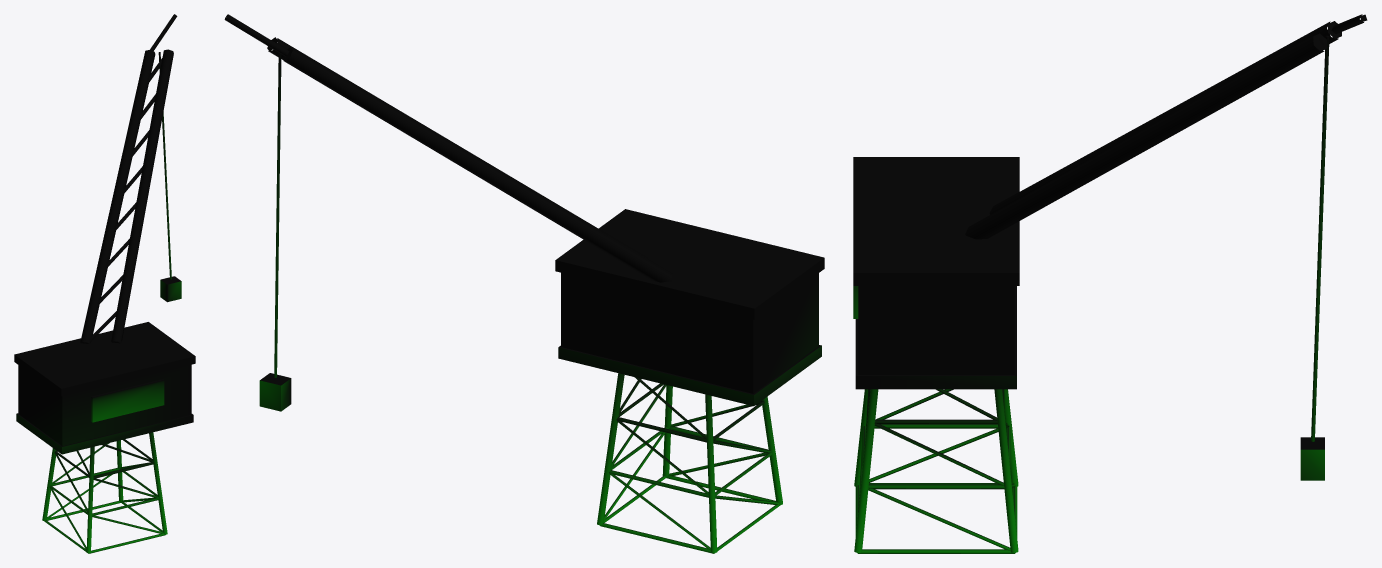
File: crane.glb
3 renders of one model, left to right at view 1: azimuth 30°, elevation 25°; view 2: azimuth 150°, elevation 25°; view 3: azimuth 270°, elevation 25°, orthographic. The views are drawn at different scales.
Visible parts, largest first — view 1: lod0; view 2: lod0; view 3: lod0.
Part boxes in pixels (x1=…): lod0: x1=14, y1=14, x2=195, y2=553; lod0: x1=224, y1=14, x2=824, y2=553; lod0: x1=853, y1=14, x2=1367, y2=553.
Size of what is drawn, in the model's own units: 10.84 by 15.14 by 10.52.
